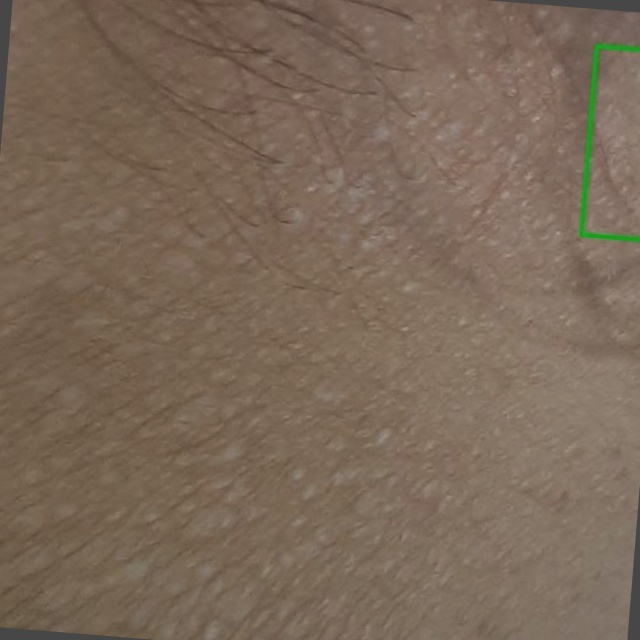Contact Dermatitis: (581, 46, 639, 239)
